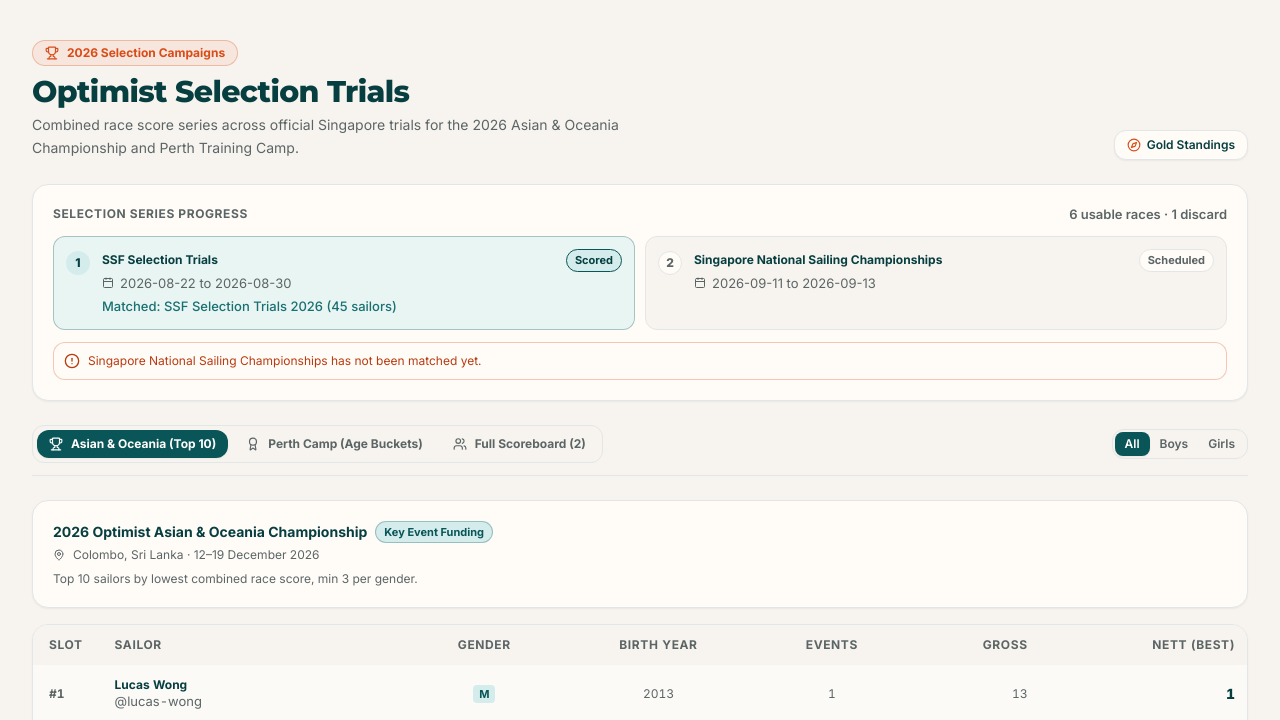
Test case: OptimistSelectionView › switches tabs between Asian, Perth, and Combined
// Click Perth Camp tab
Step 1. Click the button "Perth Camp (Age Buckets)" → (334, 444), box [234, 430, 435, 458]
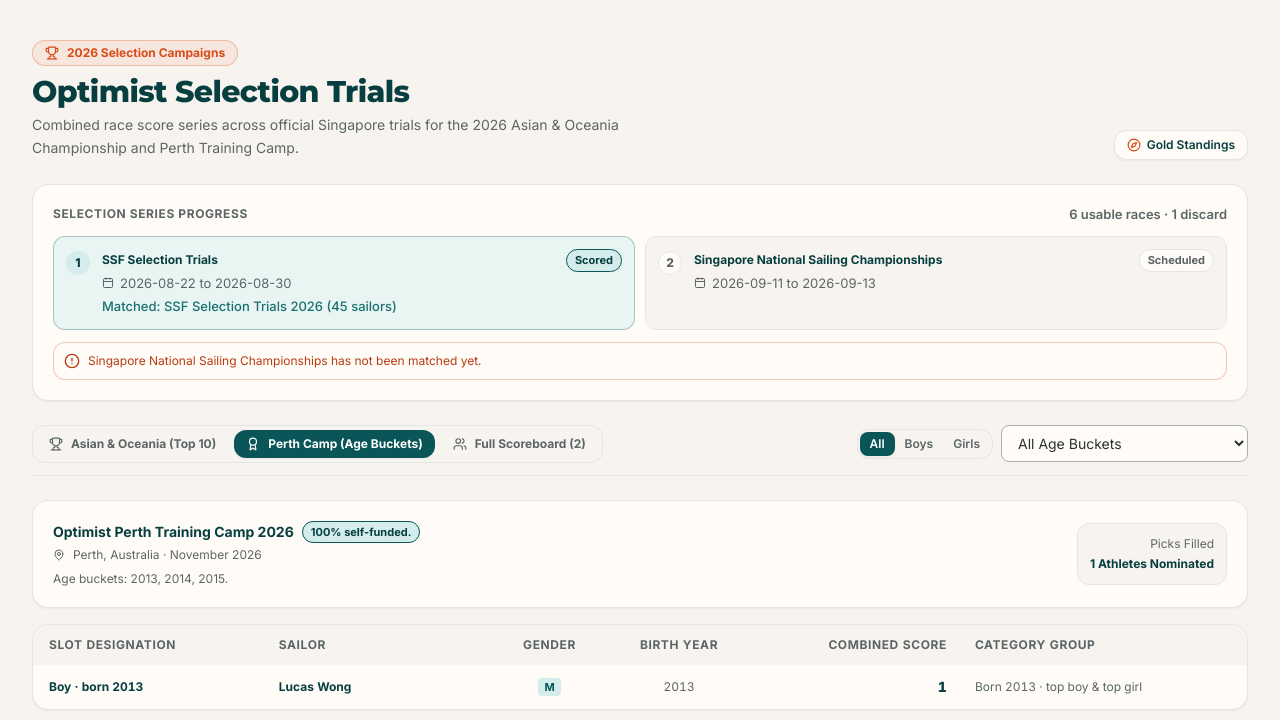
Result: the text "Boy · born 2013" is shown at [33, 665, 263, 709]
// Click Full Scoreboard tab
Step 2. Click the button "Full Scoreboard (2)" → (519, 444), box [441, 430, 598, 458]
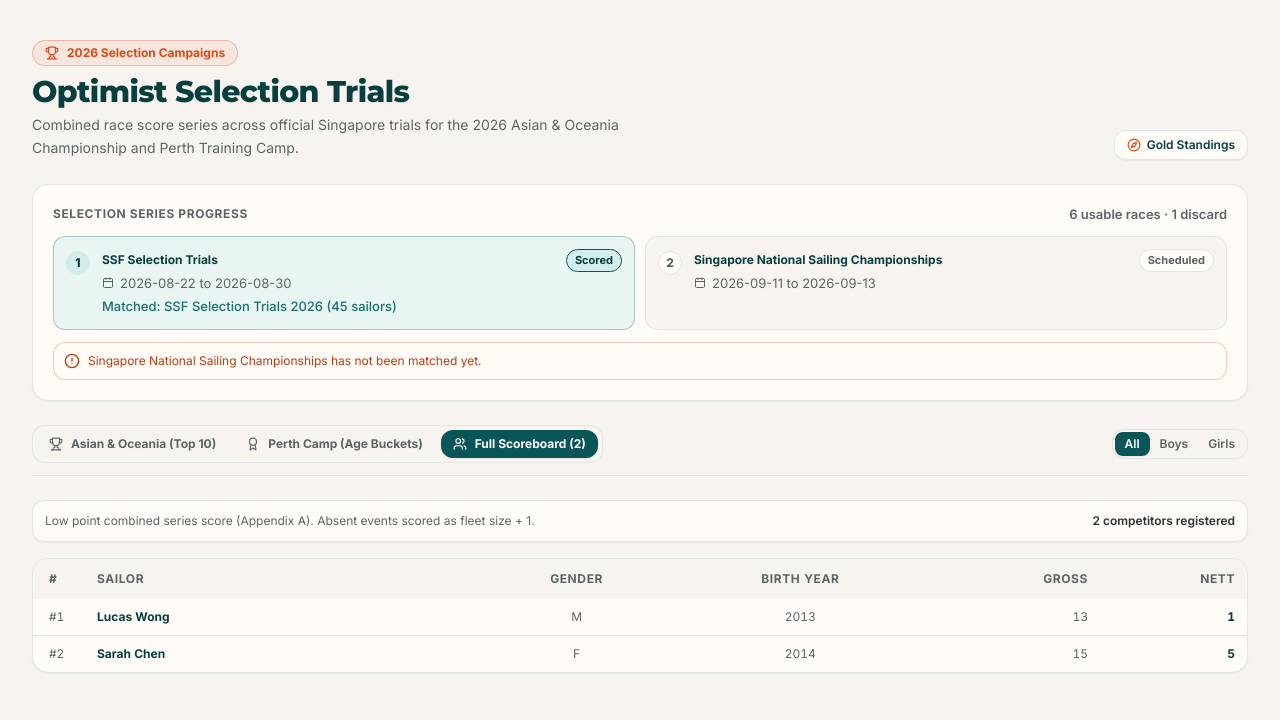
Result: the text "Sarah Chen" is shown at [81, 635, 481, 672]
